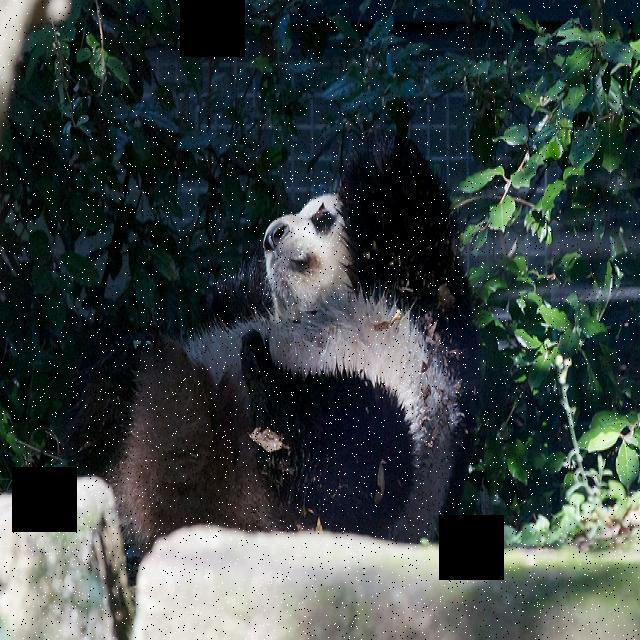Bear: (89, 128, 476, 531)
